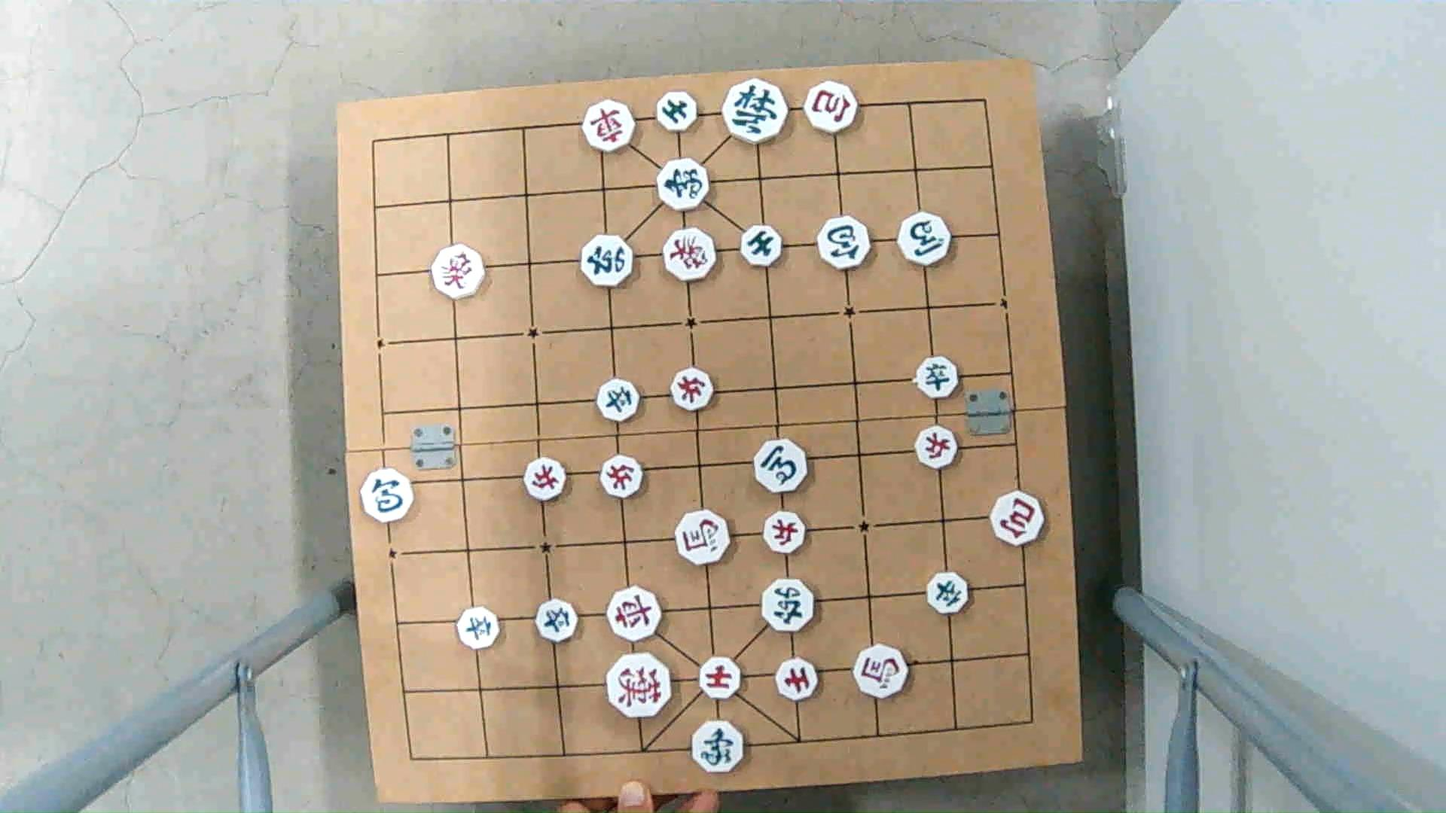cha_green: (583, 236, 636, 285), (762, 580, 815, 629)
cha_red: (608, 589, 663, 639), (581, 100, 634, 151)
jol_green: (595, 379, 642, 419), (534, 601, 582, 640), (914, 358, 962, 396), (926, 573, 972, 612), (457, 609, 499, 647)
jol_red: (597, 455, 645, 499), (523, 457, 567, 500), (667, 369, 715, 407), (916, 429, 963, 467), (764, 513, 806, 553)
ma_green: (752, 442, 806, 492), (897, 215, 950, 265)
ma_red: (673, 509, 729, 562), (854, 645, 909, 697)
po_green: (360, 471, 414, 521), (818, 219, 869, 267)
po_red: (989, 495, 1047, 544), (804, 84, 859, 128)
sa_green: (740, 225, 783, 265), (657, 93, 698, 132)
sa_red: (697, 659, 746, 699), (774, 659, 819, 699)
sang_green: (657, 157, 709, 208), (692, 722, 744, 770)
sang_red: (664, 231, 719, 282), (430, 248, 487, 297)
wang_green: (724, 84, 789, 137)
wang_red: (609, 656, 669, 715)
